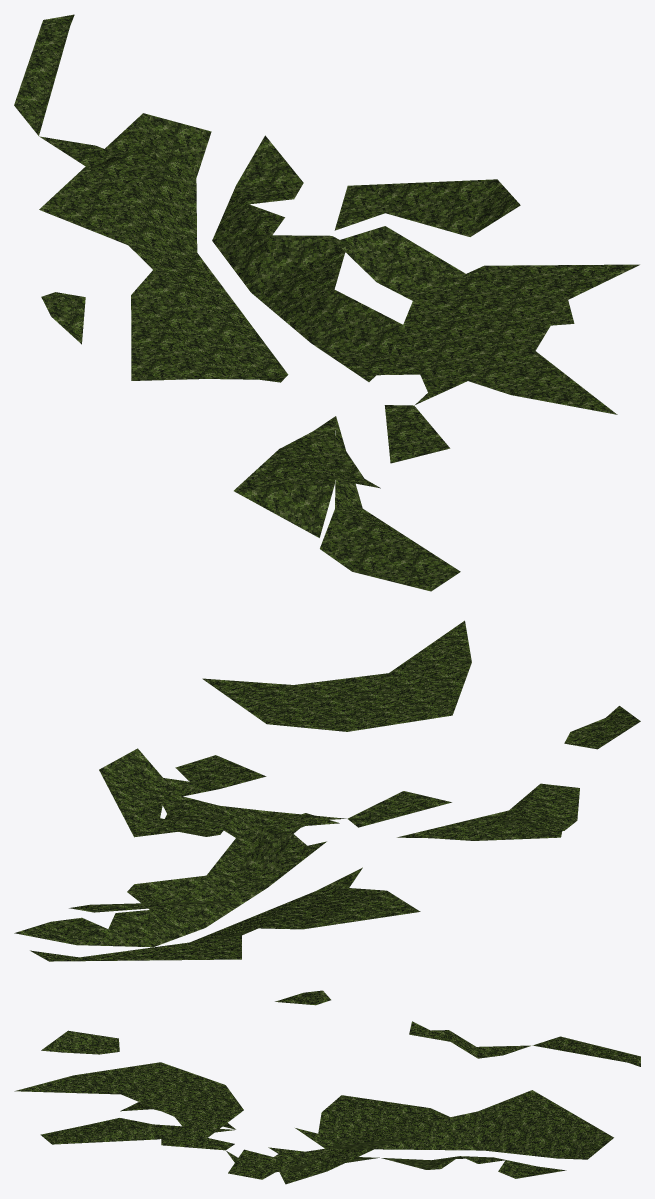
Rendered from forest2grass.obj.
The picture shows the model from 3 angles, top to bottom: view 1: azimuth 30°, elevation 25°; view 2: azimuth 150°, elevation 25°; view 3: azimuth 270°, elevation 25°; orthographic projection. The views are drawn at different scales.
Visible parts, largest first — view 1: forest2grass; view 2: forest2grass; view 3: forest2grass.
Part boxes in pixels (bbox=[...]): forest2grass: bbox=[14, 14, 639, 591]; forest2grass: bbox=[14, 620, 640, 961]; forest2grass: bbox=[14, 990, 640, 1184].
Size of the model in its own units: 4.76 by 1.67 by 8.5.
Materials: 1 (1 with a texture image).
